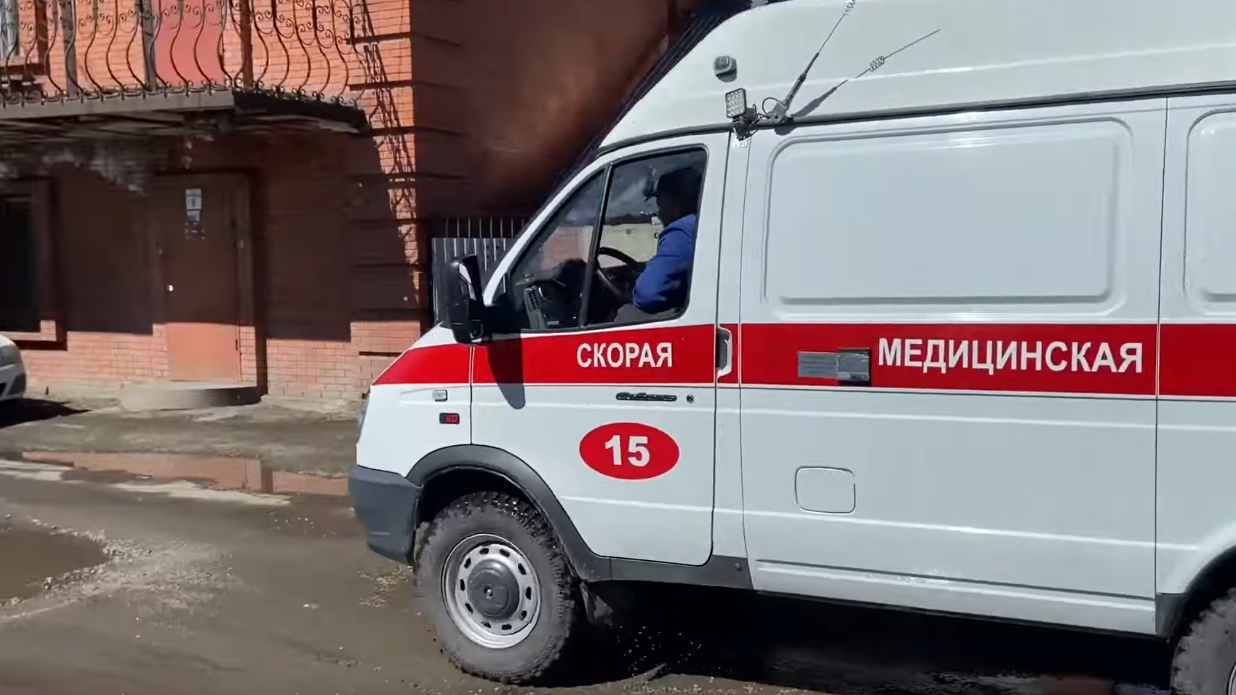ambulance: (350, 0, 1236, 687)
